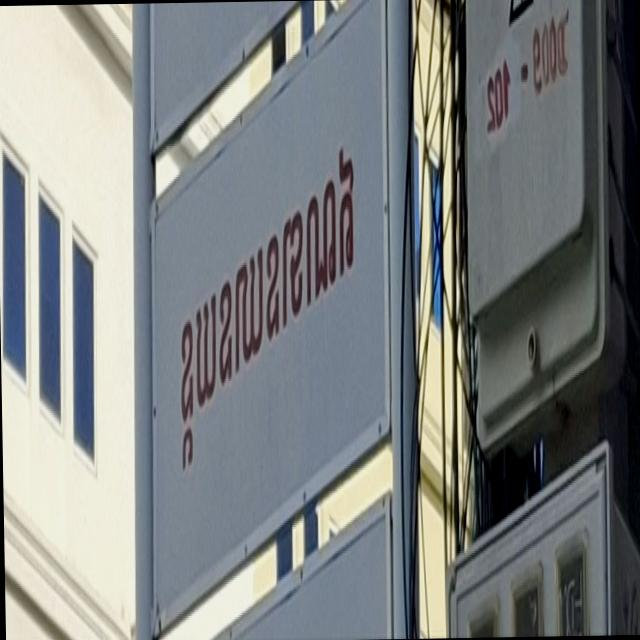Yolov11_80vkh: (150, 86, 373, 543)
